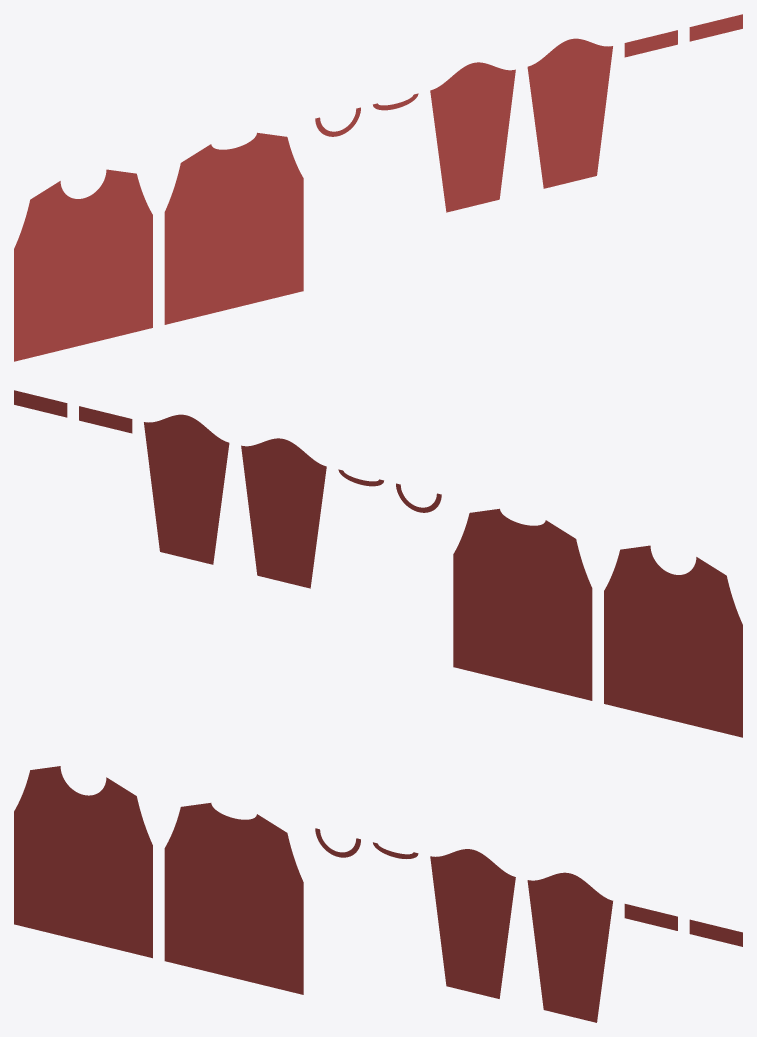
The model's file is camisa-interior-cepillado-talla-L.glb.
3 views of the same model, one above another, from view 1: azimuth 30°, elevation 25°; view 2: azimuth 150°, elevation 25°; view 3: azimuth 330°, elevation 25° (orthographic).
Visible parts, largest first — view 1: patron-espalda, patron-delantero, patron-manga-izq, patron-manga-der, patron-puno-der, patron-puno-izq; view 2: patron-espalda, patron-delantero, patron-manga-izq, patron-manga-der, patron-puno-der, patron-puno-izq; view 3: patron-espalda, patron-delantero, patron-manga-izq, patron-manga-der, patron-puno-der, patron-puno-izq.
Part boxes in pixels (x1,y1,x2,y2): patron-espalda: (164, 132, 303, 324); patron-delantero: (14, 169, 152, 361); patron-manga-izq: (430, 62, 515, 212); patron-manga-der: (527, 38, 612, 188); patron-puno-der: (689, 14, 742, 41); patron-puno-izq: (624, 30, 677, 57); patron-espalda: (453, 508, 592, 700); patron-delantero: (604, 545, 742, 737); patron-manga-izq: (241, 438, 326, 588); patron-manga-der: (144, 414, 229, 564); patron-puno-der: (14, 390, 67, 417); patron-puno-izq: (79, 406, 132, 433); patron-espalda: (164, 803, 303, 994); patron-delantero: (14, 766, 152, 958); patron-manga-izq: (430, 849, 515, 998); patron-manga-der: (527, 872, 612, 1022); patron-puno-der: (689, 919, 742, 946); patron-puno-izq: (624, 904, 677, 930).
Bounding box in the file's own units: 3.15 × 0.77 × 0.
